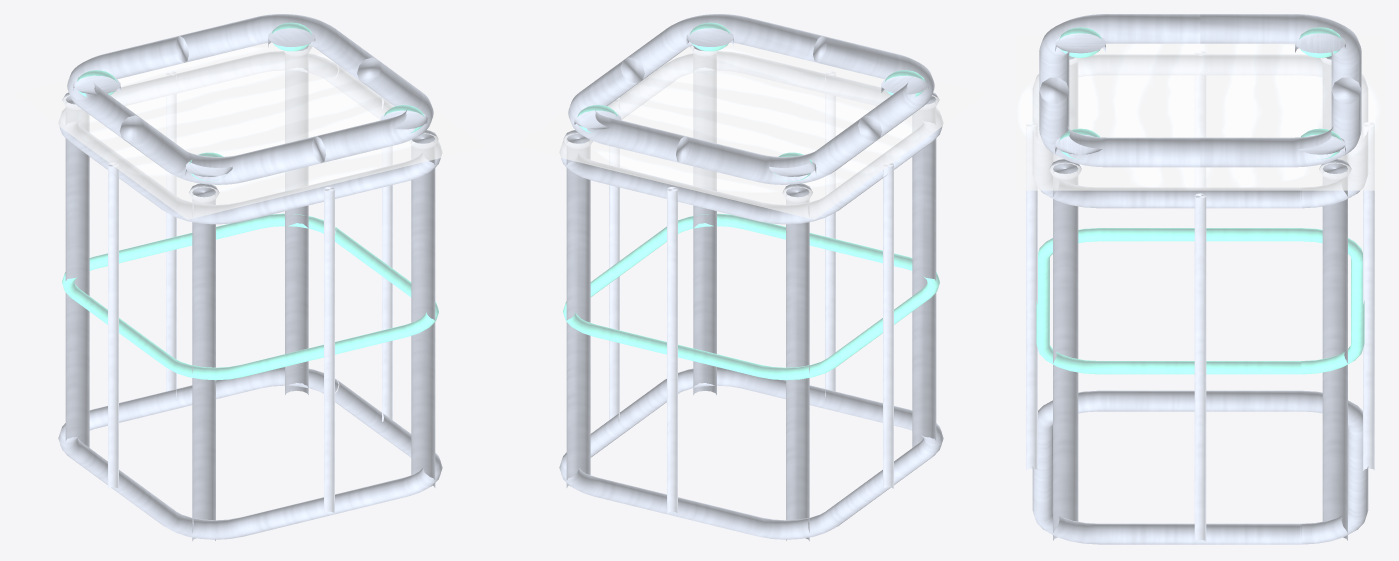
Rendered from level.gltf.
3 renders of one model, left to right at view 1: azimuth 30°, elevation 25°; view 2: azimuth 150°, elevation 25°; view 3: azimuth 270°, elevation 25°, orthographic. The views are drawn at different scales.
Visible parts, largest first — view 1: AnimTrafo_Bars, AnimTrafo_Flashfield, AnimTrafo_Ringpart3, AnimTrafo_Ringpart1, AnimTrafo_Ringpart4, AnimTrafo_Ringpart2; view 2: AnimTrafo_Bars, AnimTrafo_Flashfield, AnimTrafo_Ringpart2, AnimTrafo_Ringpart4, AnimTrafo_Ringpart1, AnimTrafo_Ringpart3; view 3: AnimTrafo_Bars, AnimTrafo_Flashfield, AnimTrafo_Ringpart4, AnimTrafo_Ringpart1, AnimTrafo_Ringpart3, AnimTrafo_Ringpart2.
Part boxes in pixels (box(x1,y1,x2,y2)): AnimTrafo_Bars: box(58, 45, 442, 541); AnimTrafo_Flashfield: box(15, 42, 486, 219); AnimTrafo_Ringpart3: box(175, 14, 381, 83); AnimTrafo_Ringpart1: box(123, 119, 320, 184); AnimTrafo_Ringpart4: box(67, 36, 183, 141); AnimTrafo_Ringpart2: box(312, 61, 433, 163); AnimTrafo_Bars: box(559, 45, 943, 541); AnimTrafo_Flashfield: box(515, 42, 986, 219); AnimTrafo_Ringpart2: box(620, 14, 826, 83); AnimTrafo_Ringpart4: box(681, 119, 878, 184); AnimTrafo_Ringpart1: box(818, 36, 934, 141); AnimTrafo_Ringpart3: box(568, 61, 689, 163); AnimTrafo_Bars: box(1026, 51, 1374, 544); AnimTrafo_Flashfield: box(1016, 34, 1384, 190); AnimTrafo_Ringpart4: box(1200, 14, 1361, 103); AnimTrafo_Ringpart1: box(1039, 14, 1200, 103); AnimTrafo_Ringpart3: box(1200, 91, 1361, 167); AnimTrafo_Ringpart2: box(1039, 91, 1200, 167).
Bounding box in the file's own units: 4.92 × 5.99 × 4.92.
4 materials, 4 textured.
